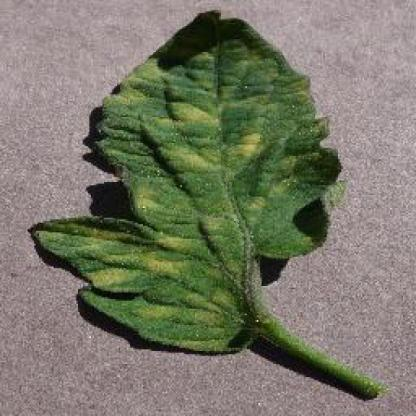Tomato_Leaf_Mold: (35, 9, 342, 352)
